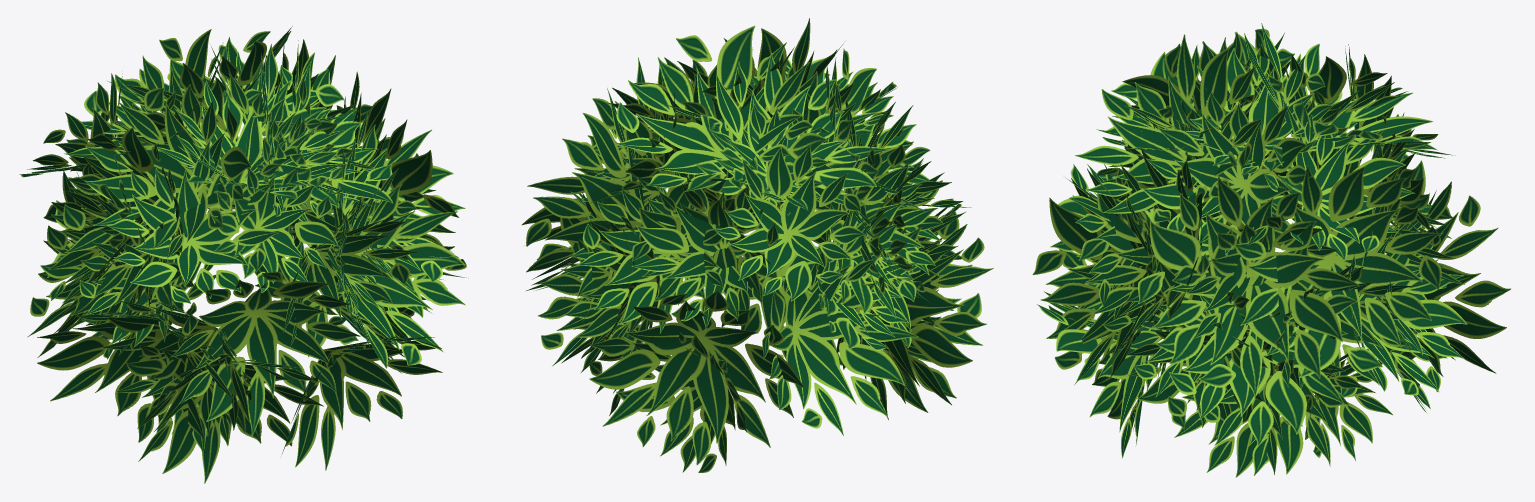
The model's file is Bush1_LOD0.fbx.
The picture shows the model from 3 angles, left to right: view 1: azimuth 30°, elevation 25°; view 2: azimuth 150°, elevation 25°; view 3: azimuth 270°, elevation 25°; orthographic projection. The views are drawn at different scales.
Parts seen in each view (by area): view 1: Bush1_LOD0; view 2: Bush1_LOD0; view 3: Bush1_LOD0.
Boxes of the visible parts, x1,y1,x2,y2 form: Bush1_LOD0: [19, 26, 468, 483]; Bush1_LOD0: [522, 18, 993, 472]; Bush1_LOD0: [1032, 23, 1510, 477].
Bounding box in the file's own units: 424 × 373 × 400.
